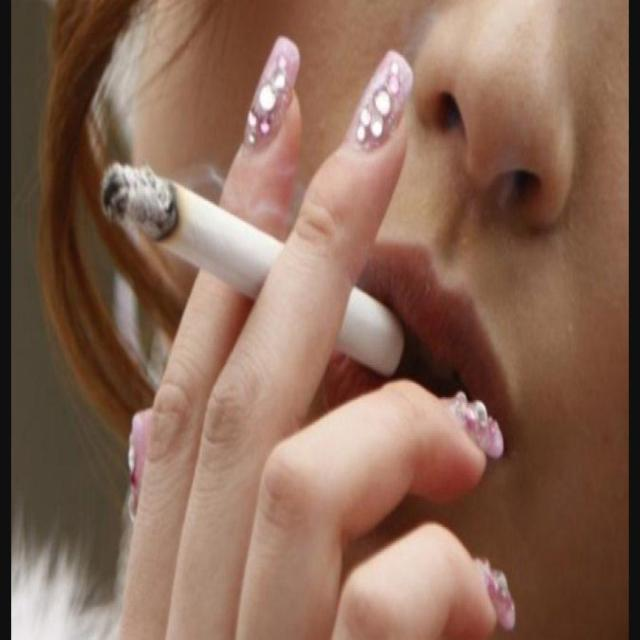cigarette: (100, 164, 285, 301), (335, 287, 405, 379)
